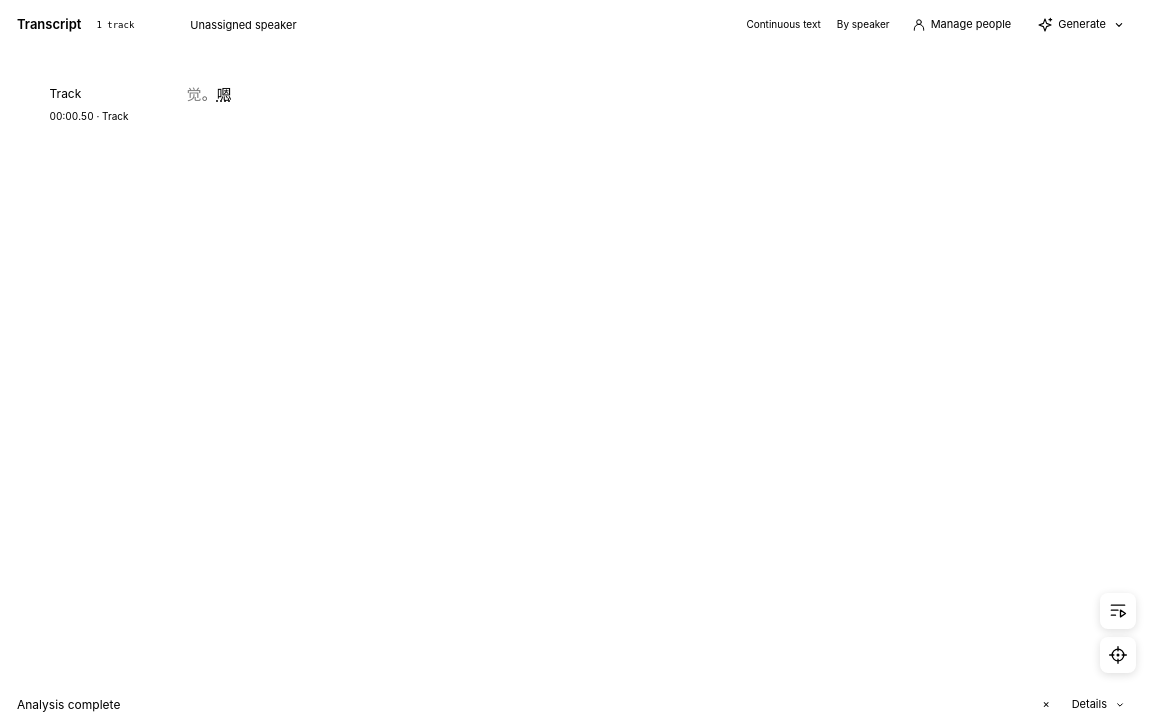
Test: canonical transcript editability › shows timing review only inside successful completion details: complete
Check: the text "Analysis complete" is shown, box [17,696,120,714]
Click the button "Details" at (1099, 704), box [1064,692,1135,716]
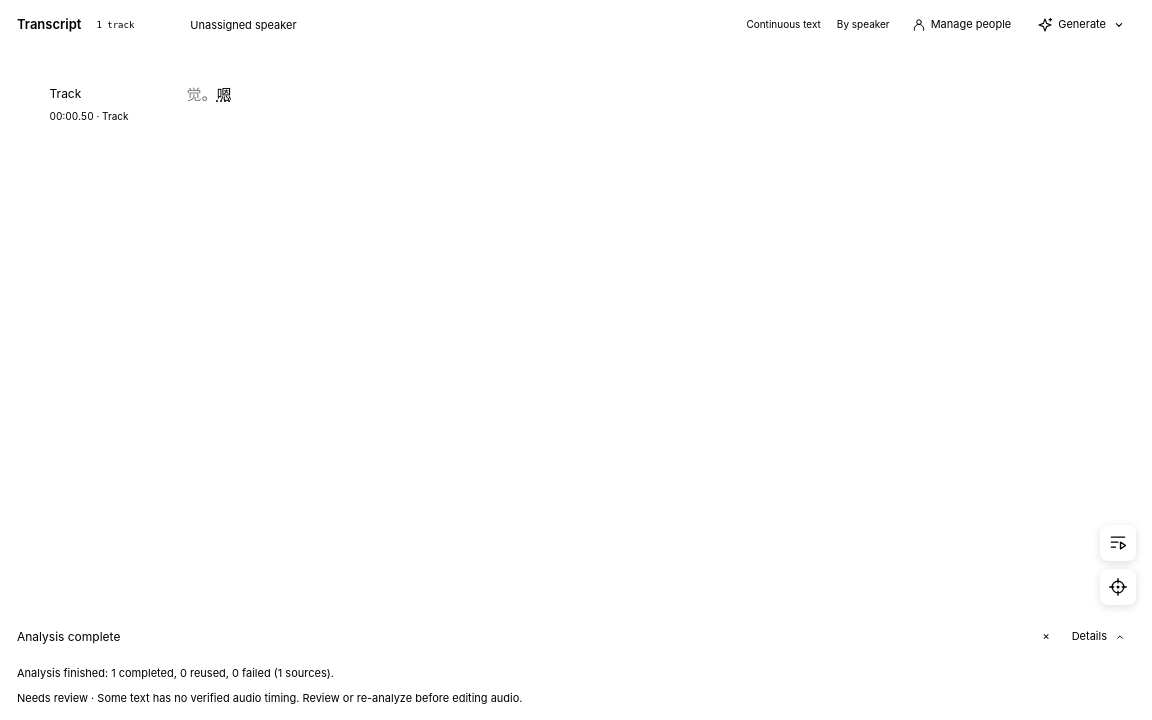
Check: the text "Needs review" is shown, box [17,690,88,704]
Click the button named "Dismiss analysis status" at (1046, 636), box [1034,624,1058,648]
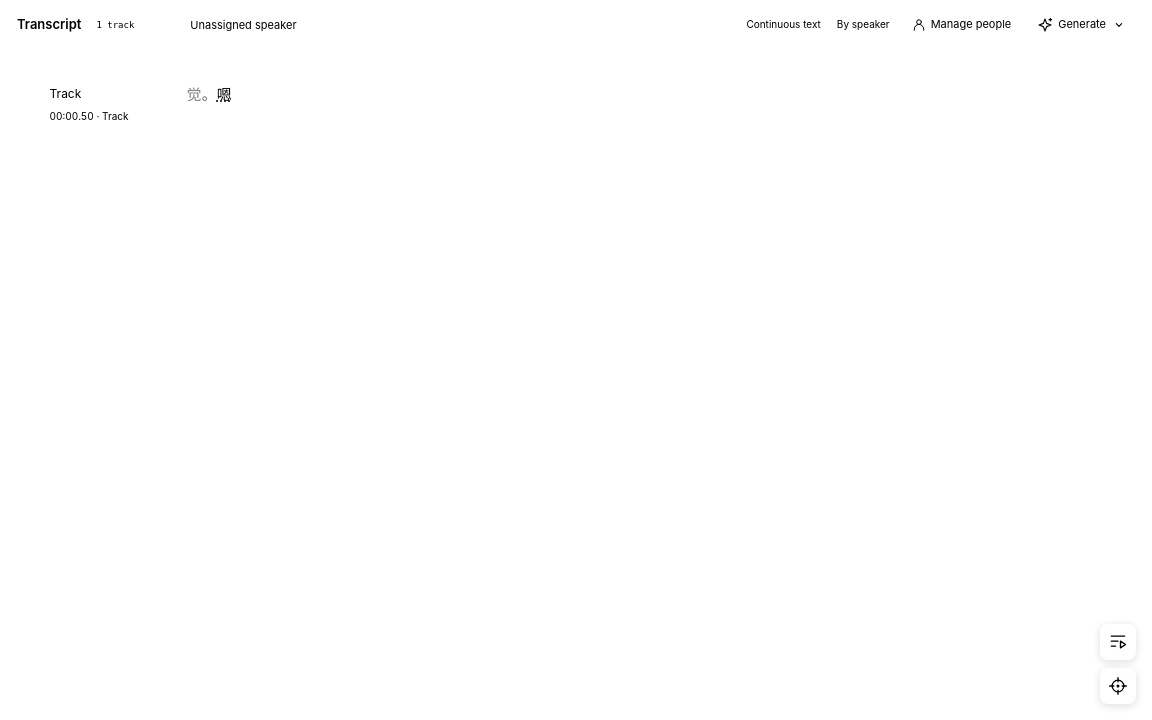
Check: the text "Needs review" is gone
